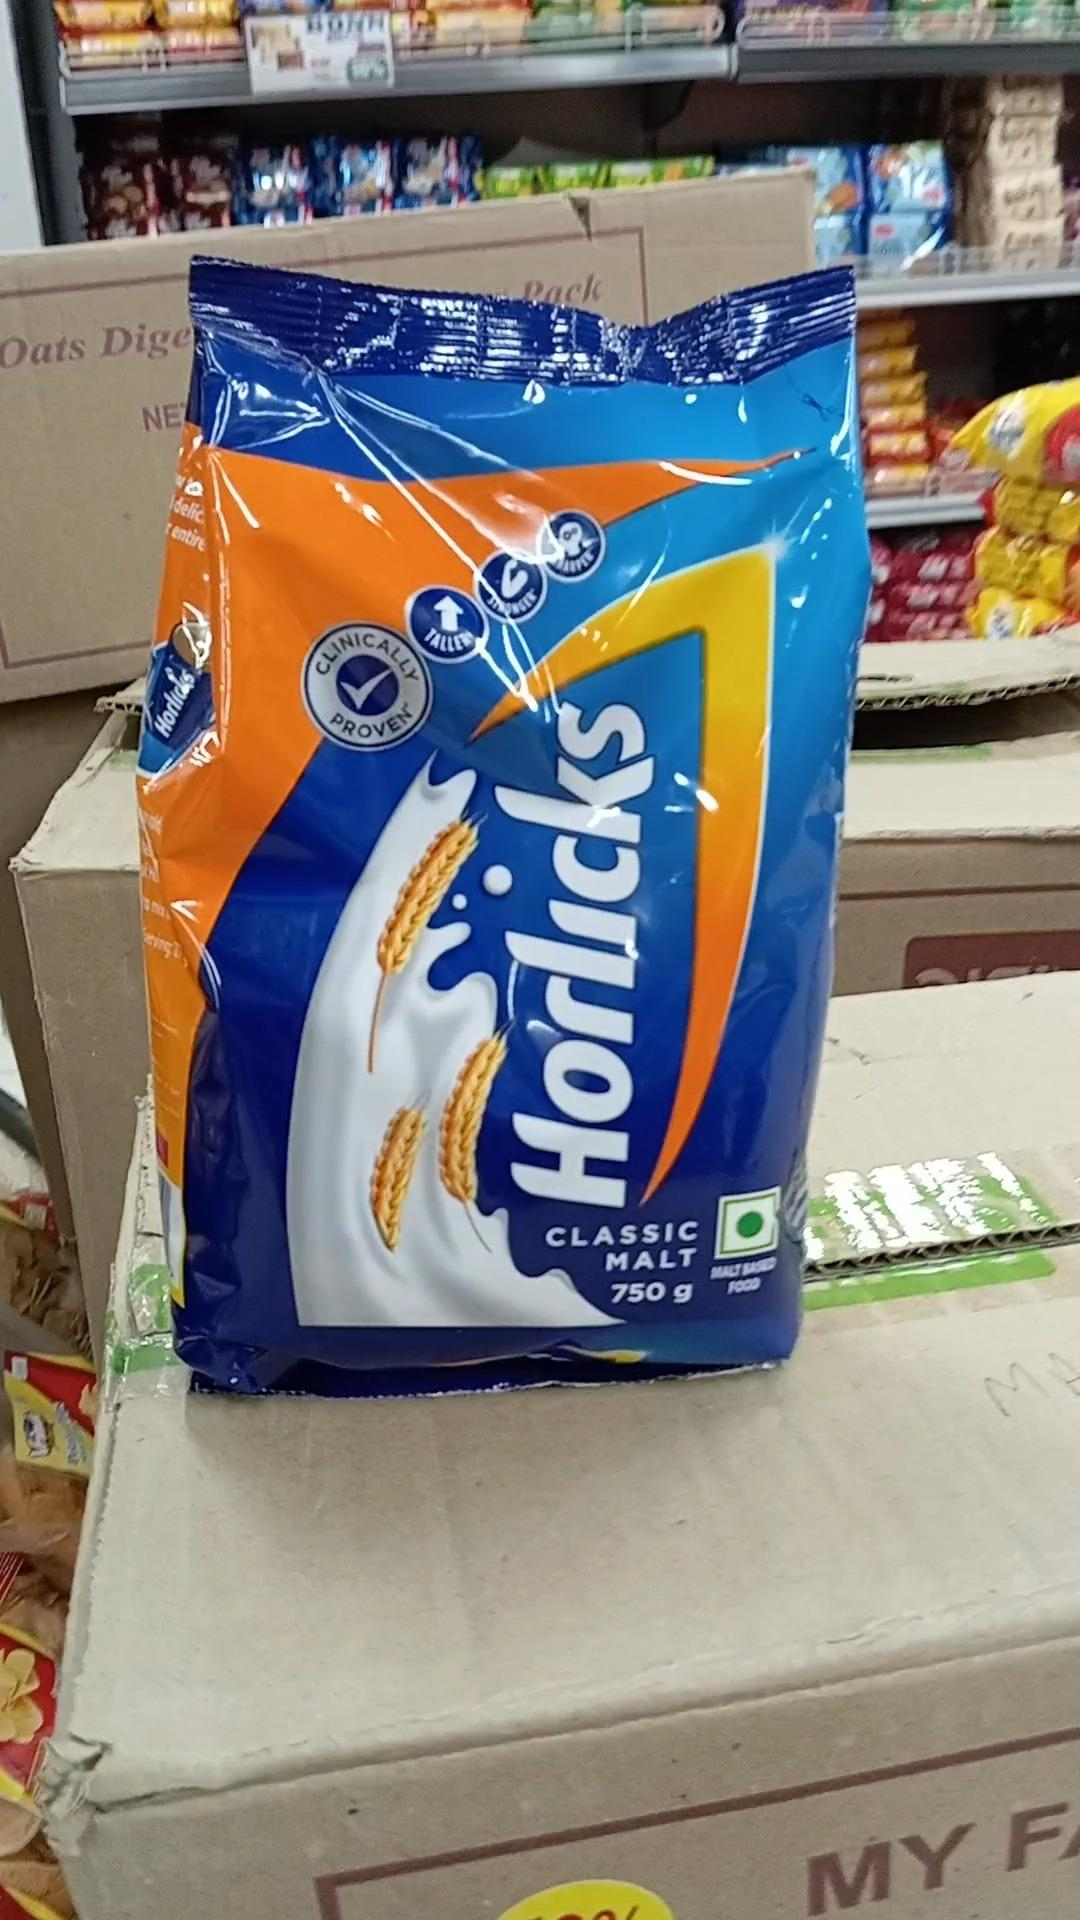HORLICK_CLASSIC_MALT_750_G_POUCH: (156, 243, 818, 1381)
